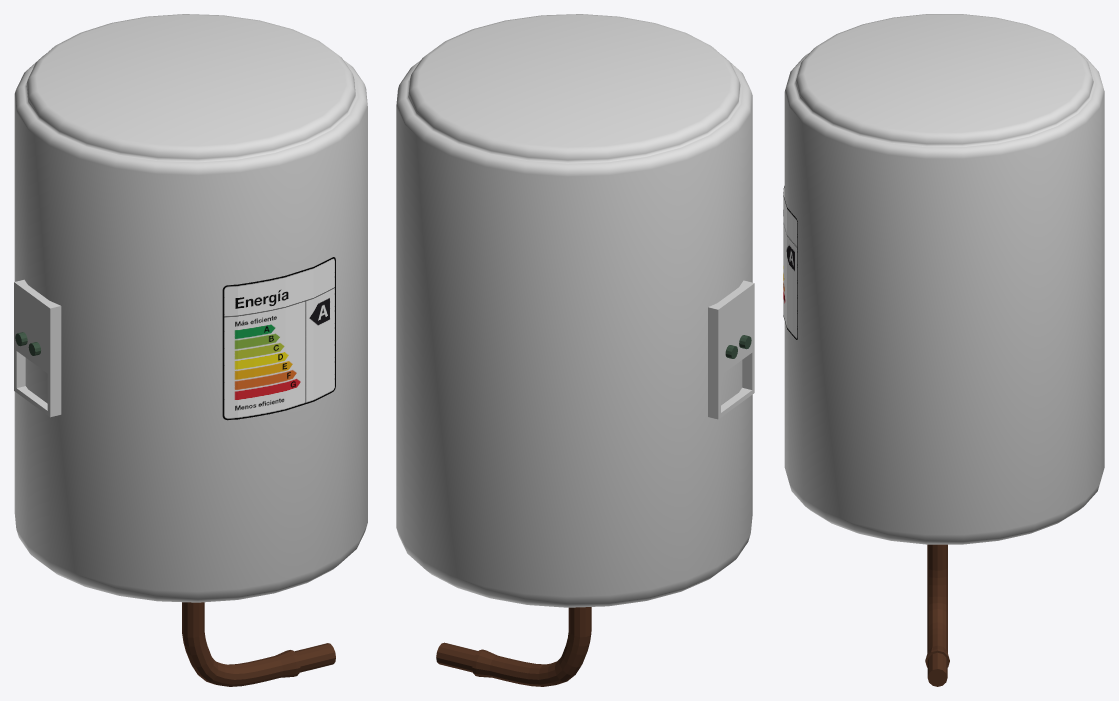
Rendered from termotanque.fbx.
3 views of the same model, side by side, from view 1: azimuth 30°, elevation 25°; view 2: azimuth 150°, elevation 25°; view 3: azimuth 270°, elevation 25° (orthographic). The views are drawn at different scales.
Visible parts, largest first — view 1: termotanque, Empty.001; view 2: termotanque; view 3: termotanque, Empty.001.
Boxes of the visible parts, x1=… form: termotanque: x1=14, y1=14, x2=367, y2=686; Empty.001: x1=222, y1=257, x2=335, y2=420; termotanque: x1=396, y1=14, x2=754, y2=686; termotanque: x1=784, y1=14, x2=1104, y2=686; Empty.001: x1=783, y1=186, x2=797, y2=339.
Bounding box in the file's own units: 0.4927 × 0.9114 × 0.4775.
4 materials, 1 textured.
